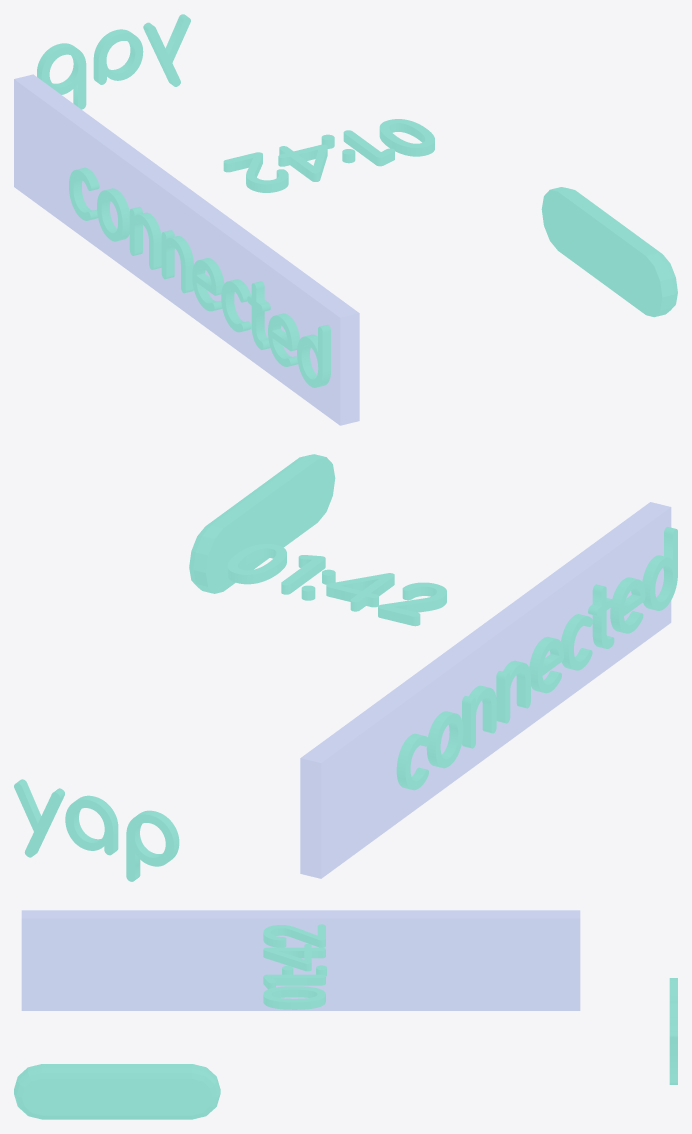
File: yaptyp.glb
3 views of the same model, one above another, from view 1: azimuth 30°, elevation 25°; view 2: azimuth 150°, elevation 25°; view 3: azimuth 270°, elevation 25° (orthographic). The views are drawn at different scales.
Visible parts, largest first — view 1: Cube.005, yap.001, Cube.001, time, yap; view 2: Cube.005, yap.001, Cube.001, time, yap; view 3: Cube.005, Cube.001, time, yap.
Part boxes in pixels (box(x1,y1,x2,y2)): Cube.005: box(14, 74, 359, 425); yap.001: box(69, 167, 330, 387); Cube.001: box(541, 187, 677, 317); time: box(223, 119, 434, 192); yap: box(37, 14, 190, 109); Cube.005: box(300, 502, 671, 878); yap.001: box(396, 526, 677, 790); Cube.001: box(189, 454, 335, 593); time: box(227, 544, 446, 626); yap: box(14, 779, 179, 881); Cube.005: box(21, 910, 580, 1010); Cube.001: box(14, 1064, 220, 1119); time: box(263, 924, 326, 1009); yap: box(669, 978, 677, 1084).
Size of the model in its own units: 21.29 by 7.03 by 41.02.
